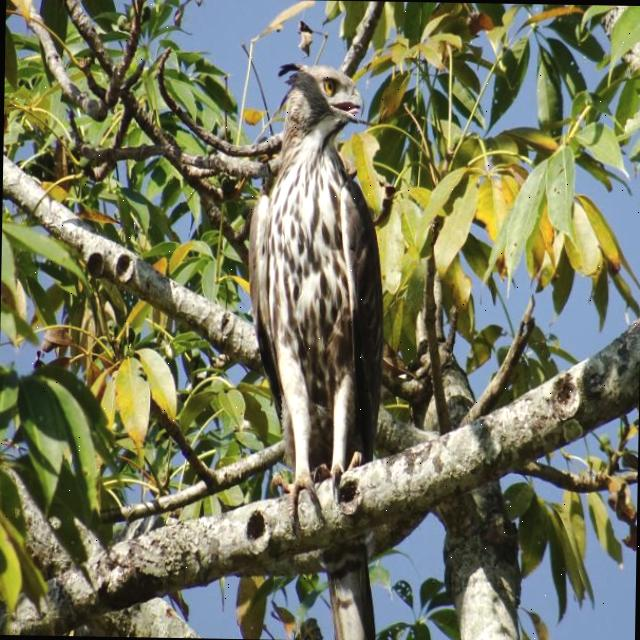Elang Jawa: (233, 45, 402, 640)
